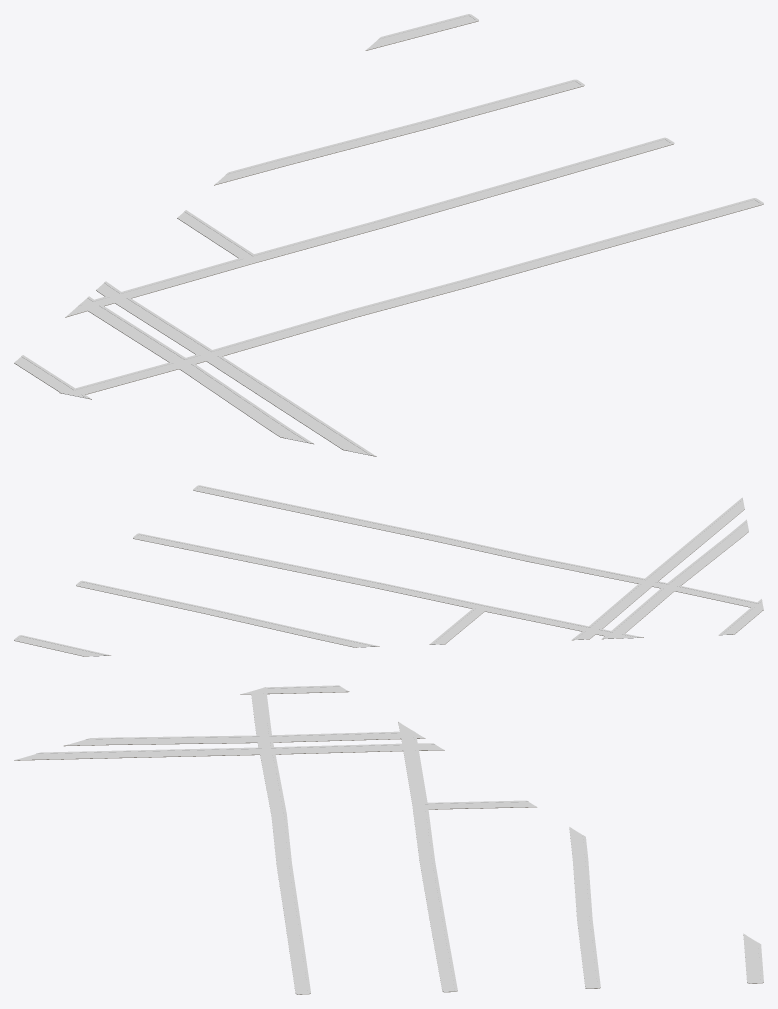
3 renders of one model, top to bottom at view 1: azimuth 30°, elevation 25°; view 2: azimuth 150°, elevation 25°; view 3: azimuth 270°, elevation 25°, orthographic. The views are drawn at different scales.
Visible parts, largest first — view 1: col_road, col_sidewalk, col_curb, sidewalk; view 2: col_road, col_sidewalk, col_curb, sidewalk; view 3: col_road, col_sidewalk, col_curb, sidewalk.
Part boxes in pixels (x1,y1,x2,y2): col_road: [16, 16, 759, 455]; col_sidewalk: [14, 14, 763, 456]; col_curb: [19, 15, 760, 455]; sidewalk: [14, 21, 763, 456]; col_road: [17, 486, 763, 656]; col_sidewalk: [14, 485, 763, 656]; col_curb: [16, 486, 761, 656]; sidewalk: [14, 490, 763, 656]; col_road: [19, 686, 760, 992]; col_sidewalk: [14, 685, 763, 994]; col_curb: [20, 686, 761, 992]; sidewalk: [14, 691, 763, 994].
Size of the model in its own units: 530 by 0.32 by 544.
